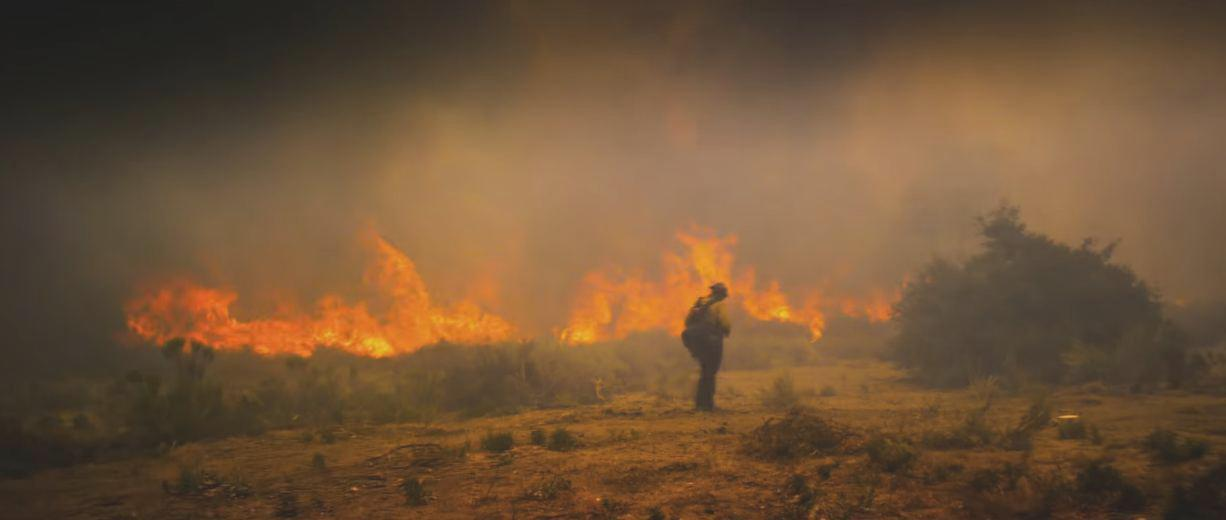fire: (120, 238, 900, 360)
